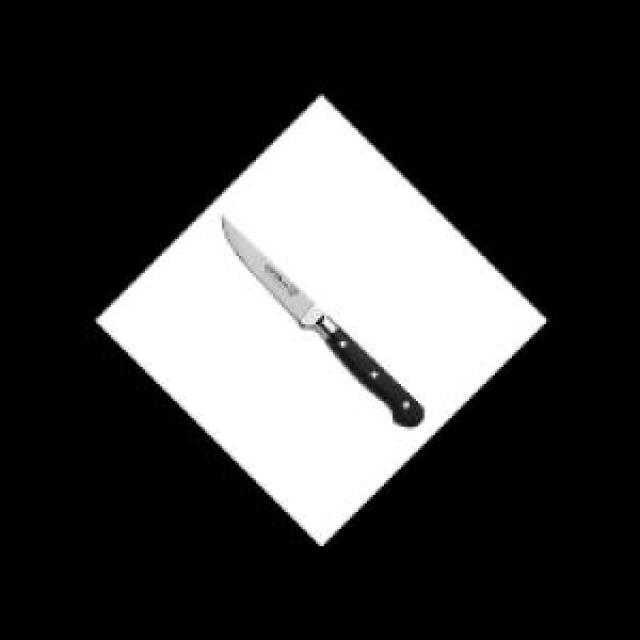knife: (222, 216, 425, 427)
